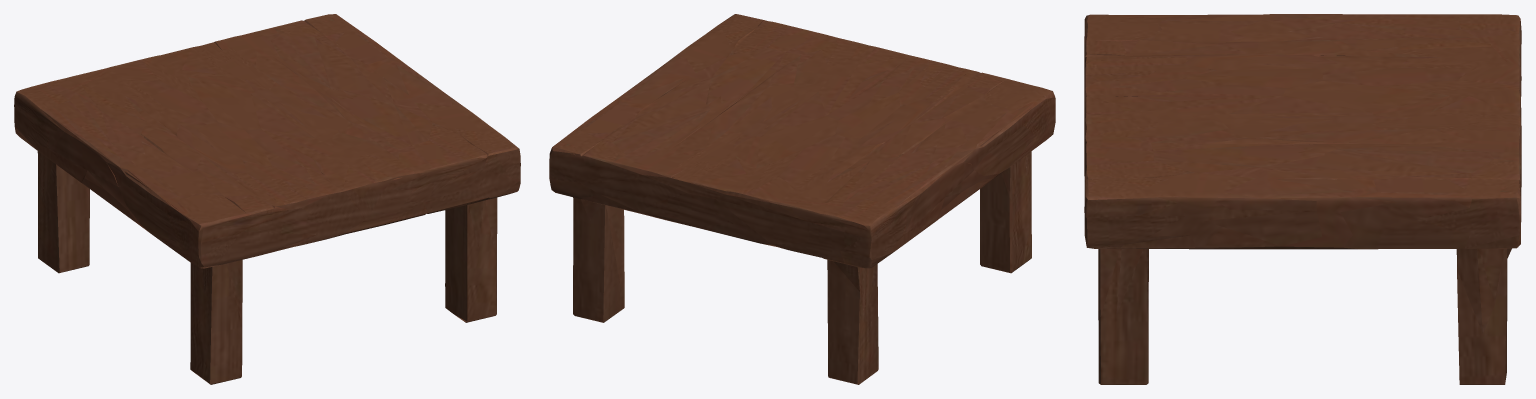
Rendered from table.glb.
3 renders of one model, left to right at view 1: azimuth 30°, elevation 25°; view 2: azimuth 150°, elevation 25°; view 3: azimuth 270°, elevation 25°, orthographic. The views are drawn at different scales.
Bounding box in the file's own units: 1.9 × 0.9551 × 1.9.
1 material, 1 textured.
